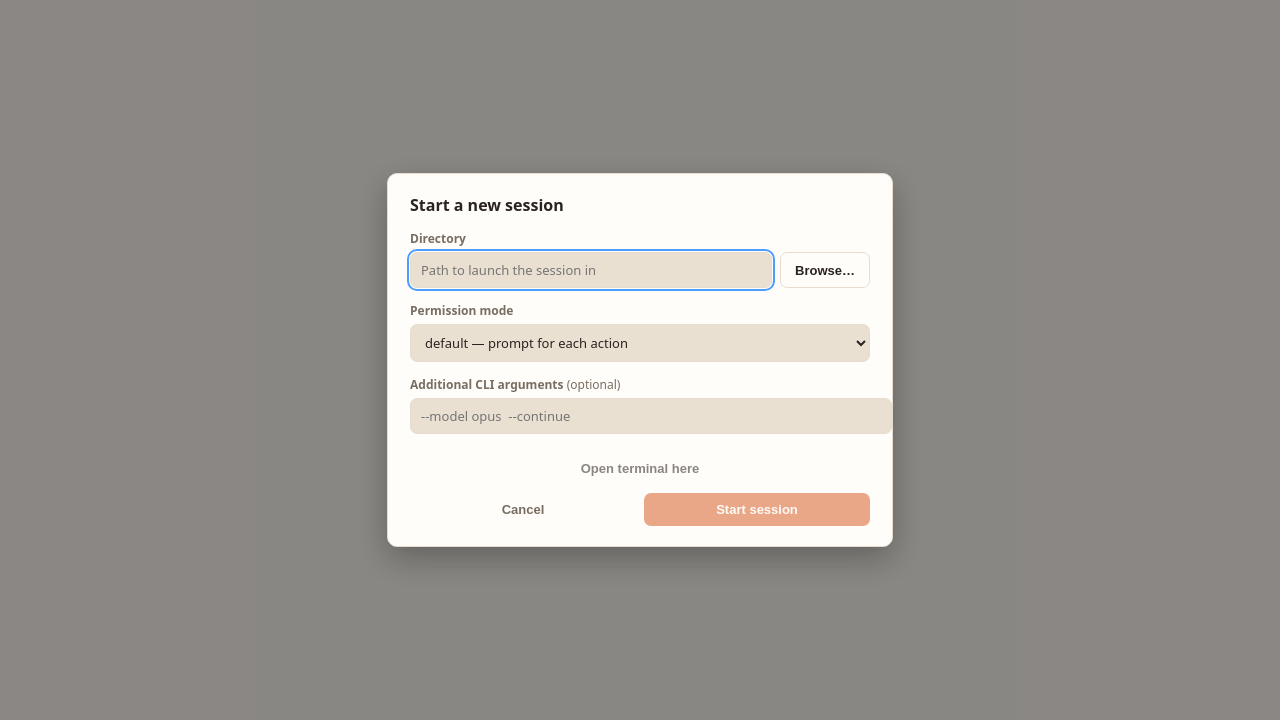
NewSessionModal (#165) › Browse fills the directory from the native picker
This screenshot has width=1280, height=720.
What coordinates should you click on to do the following:
click the button with test id "new-session-browse"
I would click on:
 (825, 270)
Its box is [780,252,870,288].
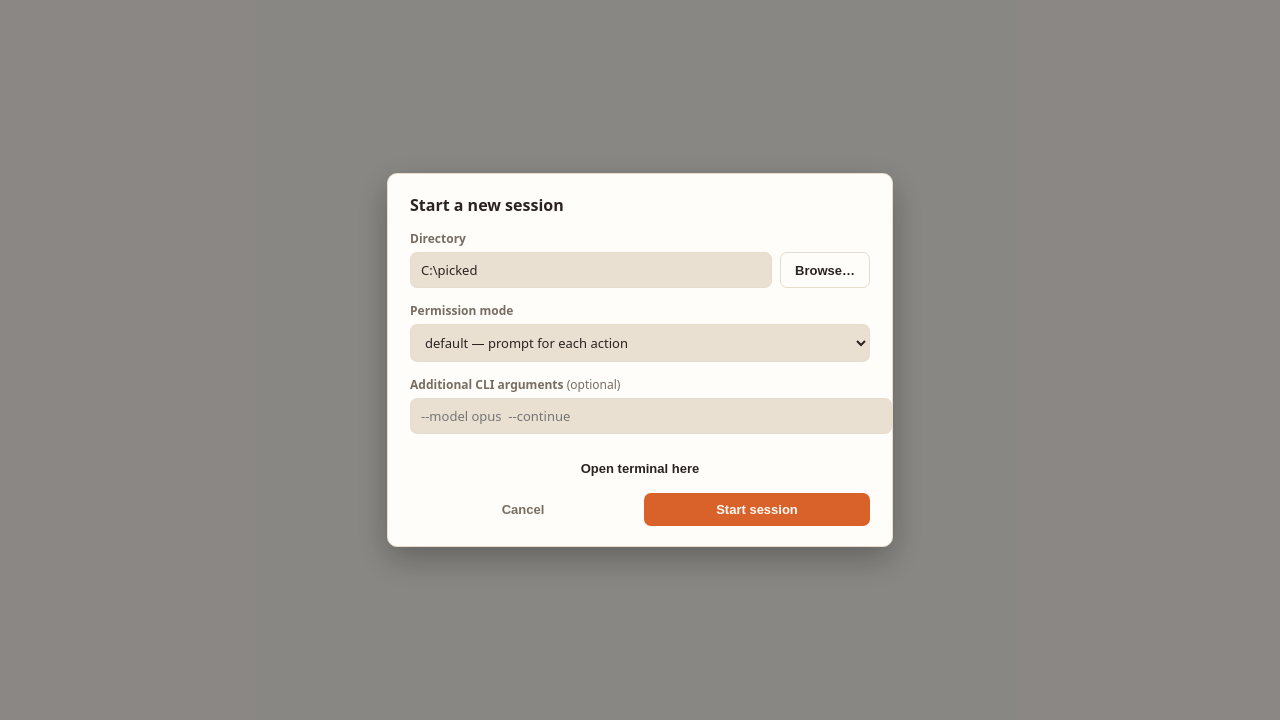
Expected: the field labelled "Directory" holds "C:\\picked", [410,252,772,288]
